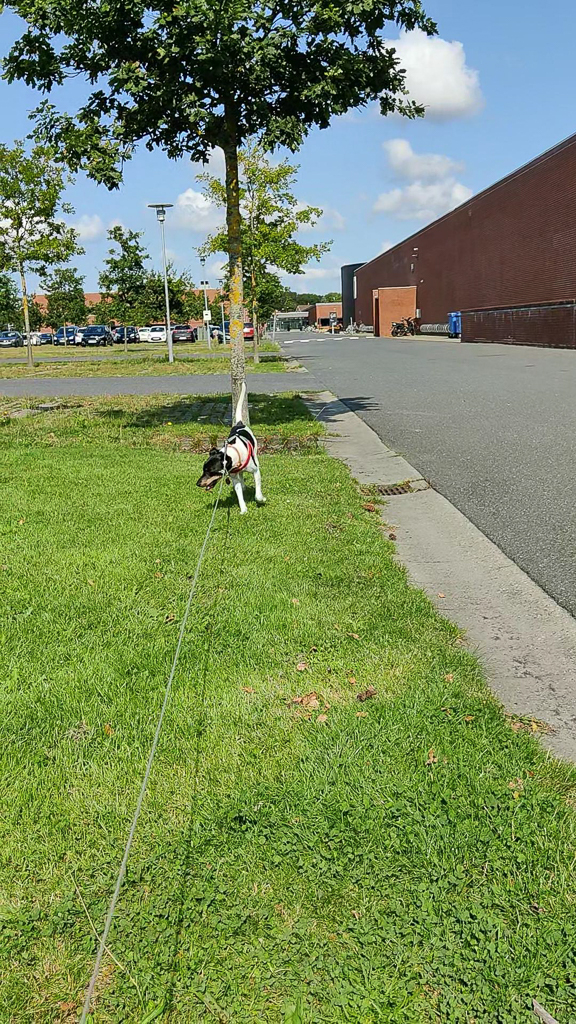Dog: (190, 379, 276, 524)
